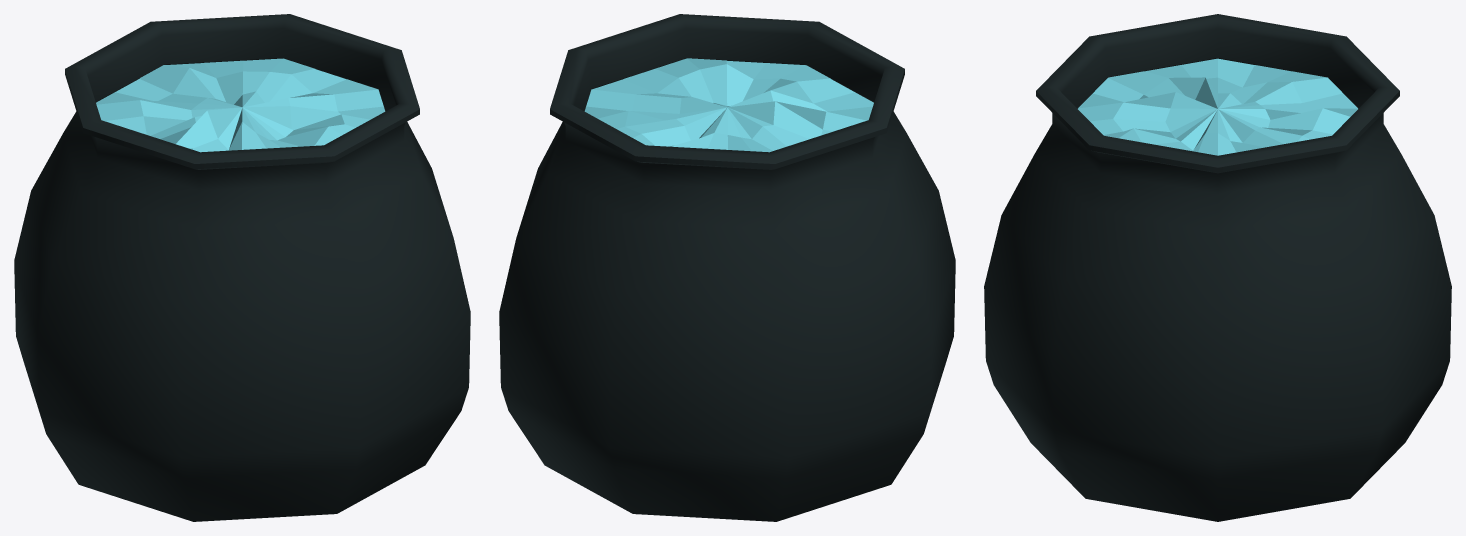
File: SM_Pot_02.fbx
The picture shows the model from 3 angles, left to right: view 1: azimuth 30°, elevation 25°; view 2: azimuth 150°, elevation 25°; view 3: azimuth 270°, elevation 25°; orthographic projection.
Parts seen in each view (by area): view 1: Circle; view 2: Circle; view 3: Circle.
Boxes of the visible parts, x1,y1,x2,y2 form: Circle: (14, 14, 470, 521); Circle: (499, 14, 955, 521); Circle: (984, 14, 1451, 521).
Size of the model in its own units: 80 by 67.05 by 80.
